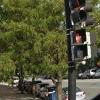Traffic light: (56, 4, 99, 71)
